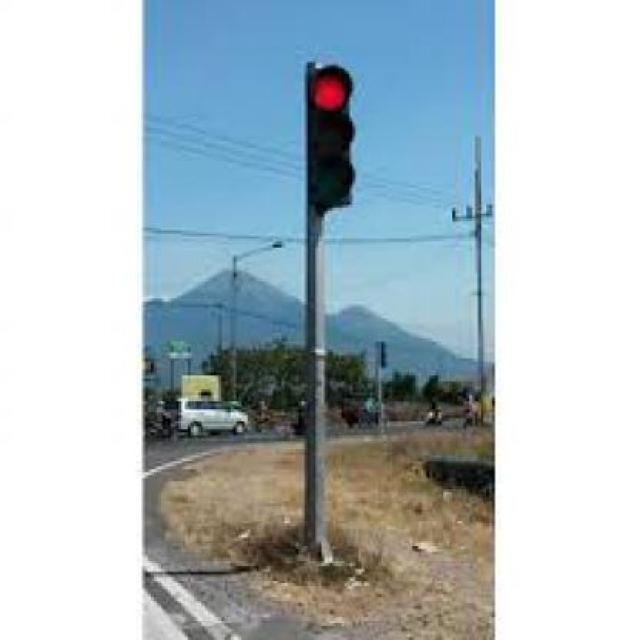red_light: (296, 54, 359, 214)
